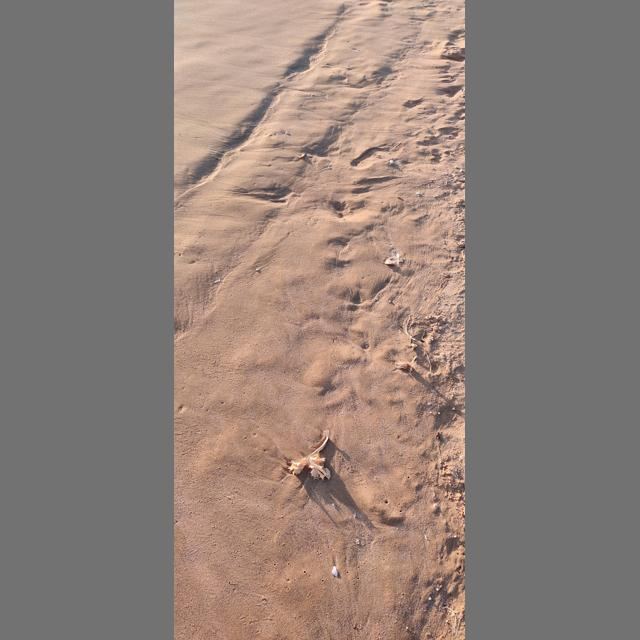litter: (383, 243, 405, 265)
